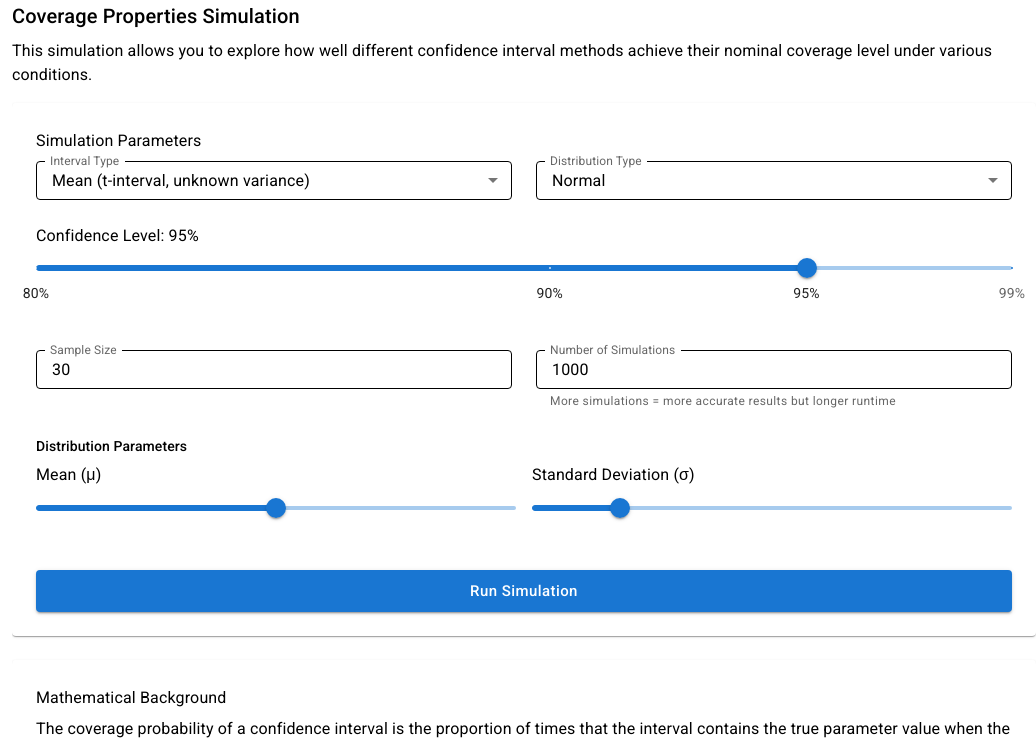
Scenario: CoverageSimulation Component › handles WebSocket unexpected close
The image size is (1036, 744).
// Click Run Simulation button to start
Click the button "Run Simulation" at (524, 591), box top-left (36, 570), bottom-right (1012, 612)
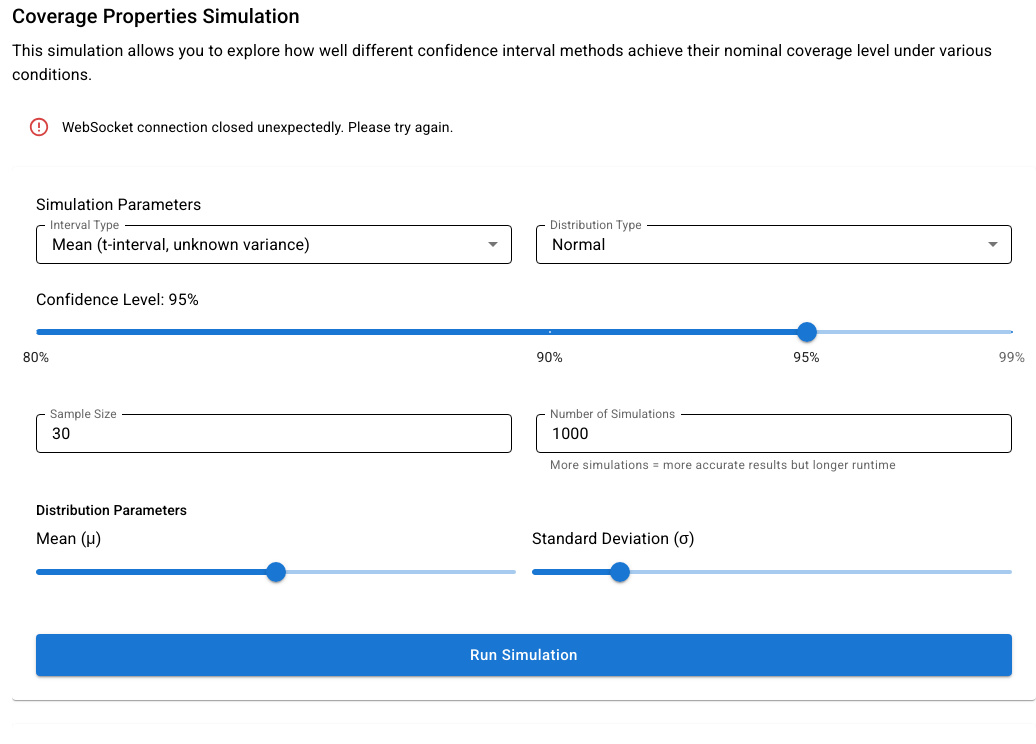
Expected: the text "WebSocket connection closed unexpectedly. Please try again." is shown, top-left (62, 119), bottom-right (454, 135)
